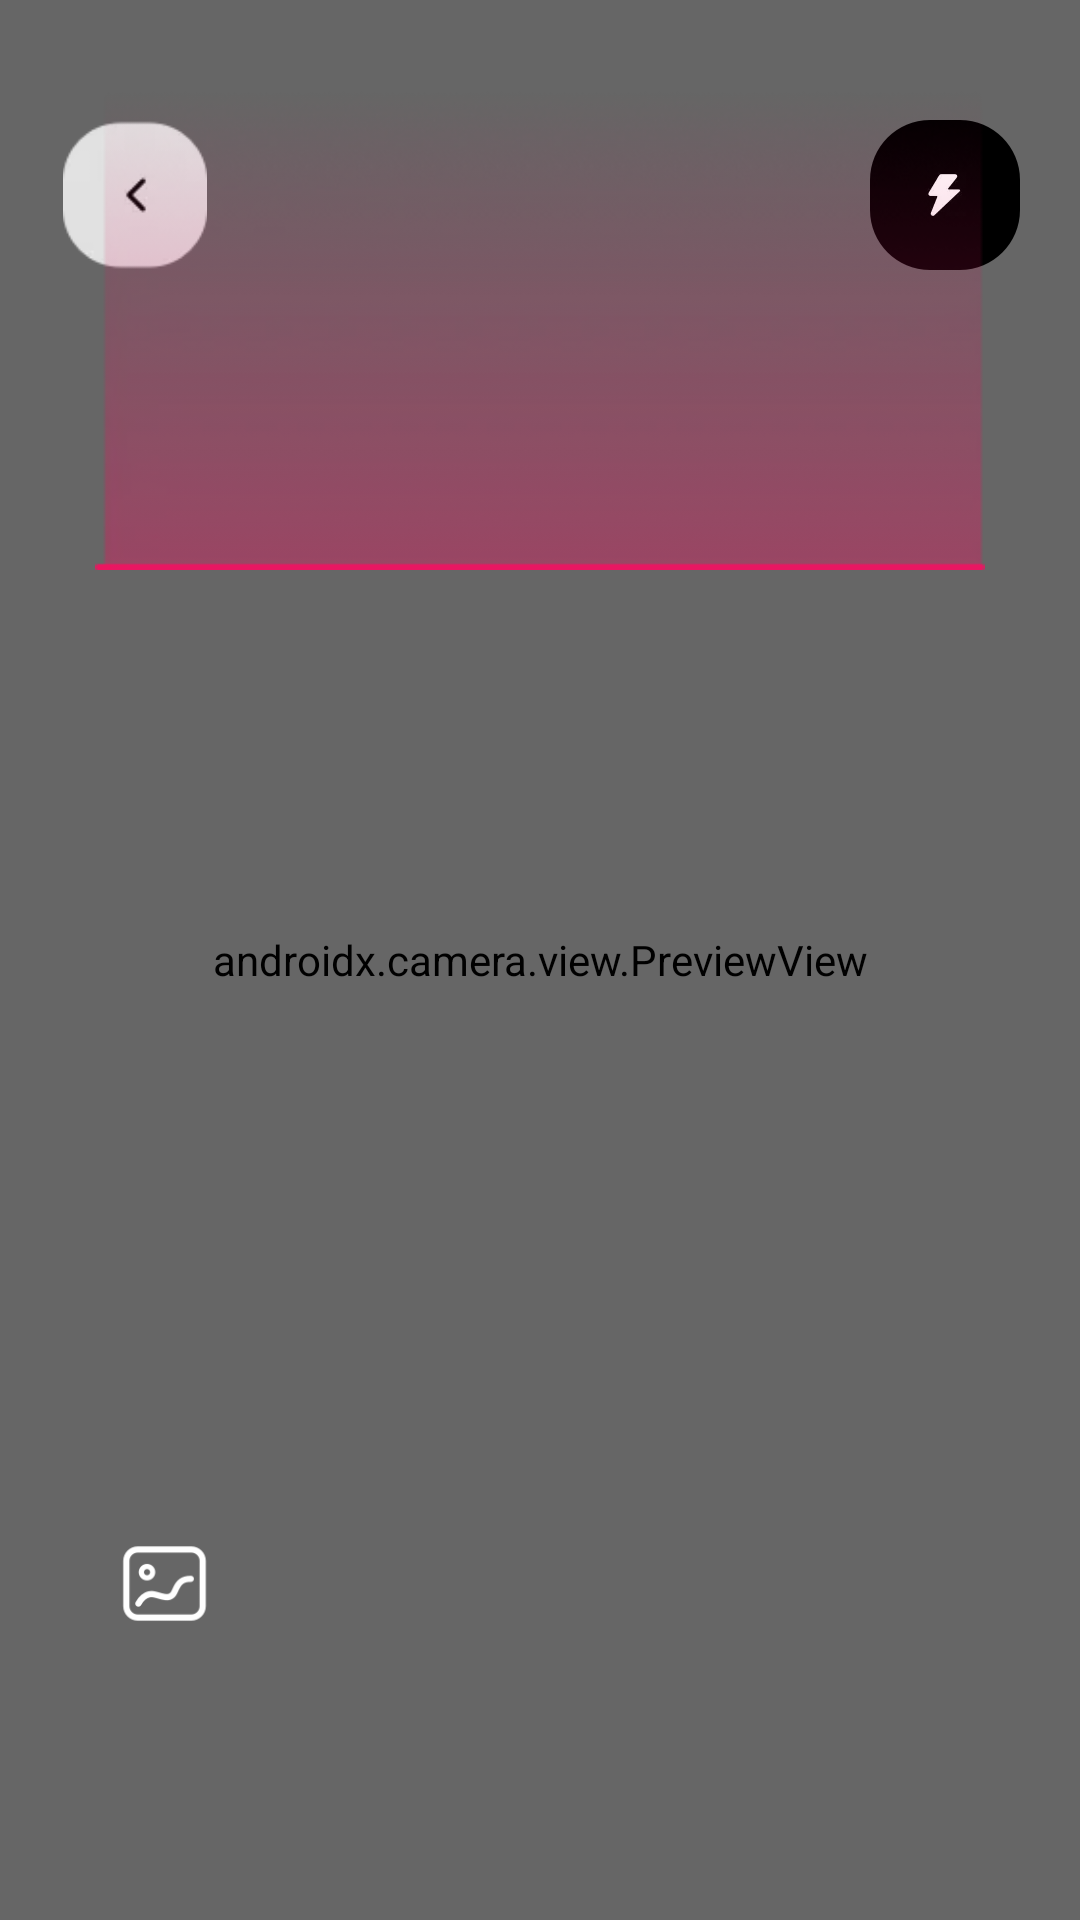

Named icons in this screenshot (1080x1920) and their bounding boxes, (x1, y1, x2, y2):
gallery: (123, 1546, 206, 1621)
